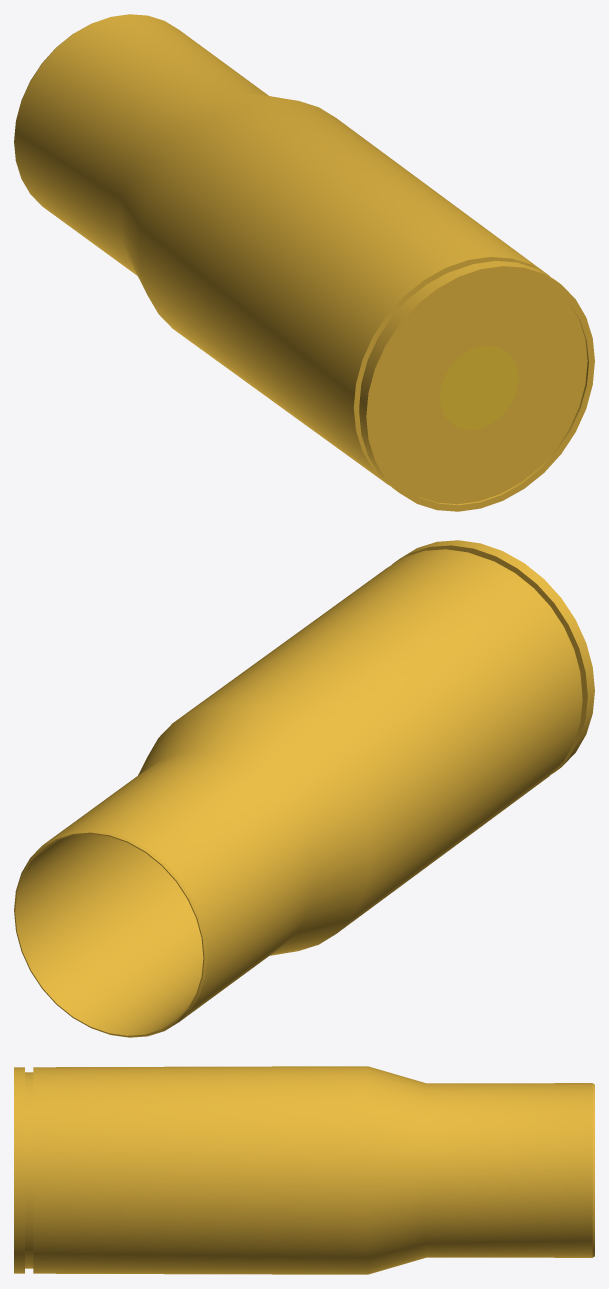
Rendered from GatlingTankCasing.glb.
3 renders of one model, top to bottom at view 1: azimuth 30°, elevation 25°; view 2: azimuth 150°, elevation 25°; view 3: azimuth 270°, elevation 25°, orthographic. The views are drawn at different scales.
Parts seen in each view (by area): view 1: Casing; view 2: Casing; view 3: Casing.
Boxes of the visible parts, x1,y1,x2,y2 form: Casing: (14,14,594,511); Casing: (14,540,594,1037); Casing: (14,1066,594,1274).
Size of the model in its own units: 0.0622 by 0.0622 by 0.173.
